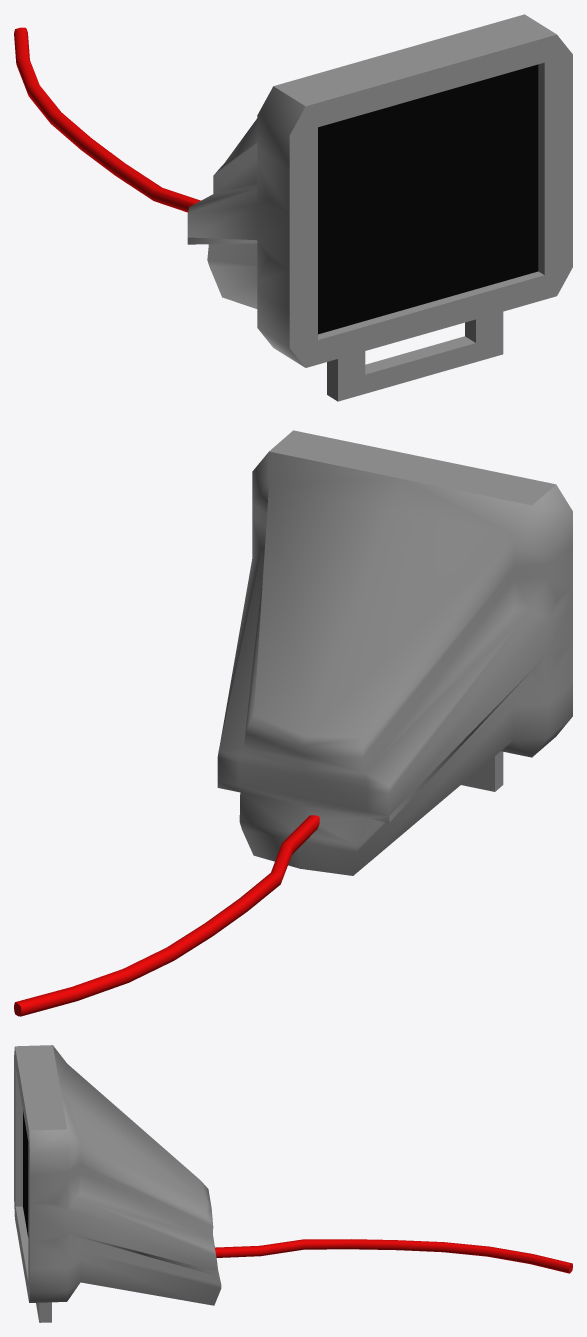
File: FBX_Lumiere.fbx
3 renders of one model, top to bottom at view 1: azimuth 30°, elevation 25°; view 2: azimuth 150°, elevation 25°; view 3: azimuth 270°, elevation 25°, orthographic. The views are drawn at different scales.
Visible parts, largest first — view 1: lumiere001; view 2: lumiere001; view 3: lumiere001.
Part boxes in pixels (bbox=[...]): lumiere001: bbox=[14, 14, 572, 401]; lumiere001: bbox=[14, 430, 572, 1016]; lumiere001: bbox=[14, 1045, 572, 1322].
Bounding box in the file's own units: 56.15 × 56.41 × 138.
